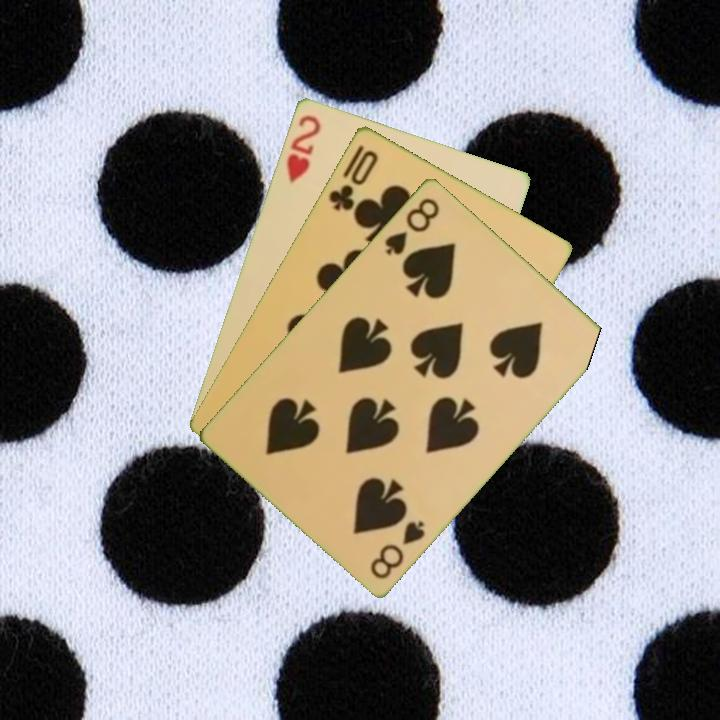10c: (325, 145, 381, 214)
2h: (282, 110, 324, 186)
8s: (366, 516, 429, 582), (381, 194, 443, 258)
